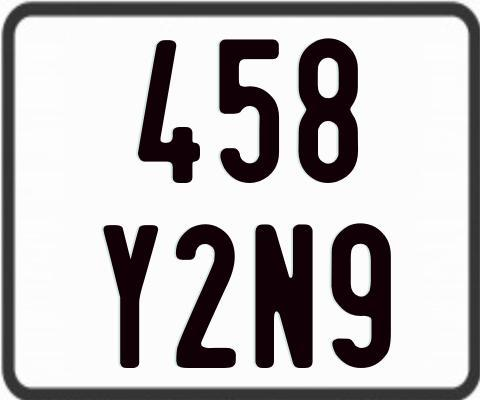2: (173, 223, 239, 373)
4: (135, 40, 201, 187)
5: (216, 39, 277, 188)
8: (298, 37, 361, 183)
9: (328, 223, 392, 373)
N: (252, 224, 315, 369)
Y: (100, 222, 160, 365)
